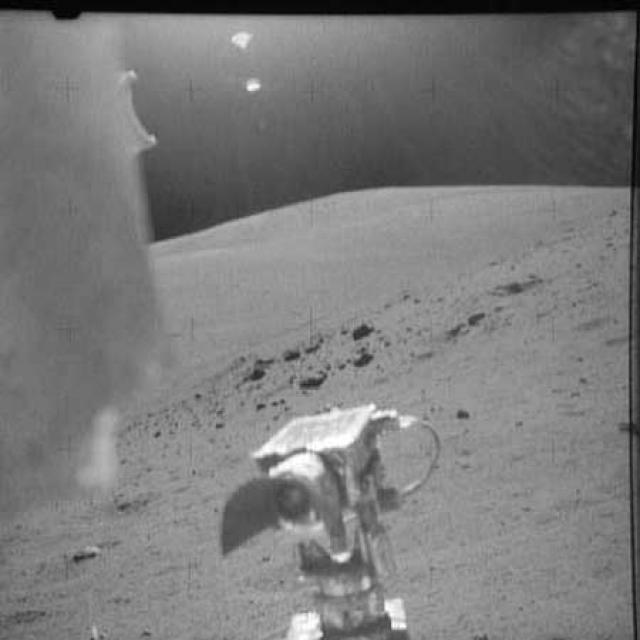artifact: (0, 0, 170, 541), (215, 396, 461, 638)
crater: (2, 600, 52, 630), (488, 276, 549, 297)
rock: (290, 360, 334, 392), (241, 354, 274, 392), (64, 542, 107, 568), (343, 316, 378, 340), (346, 347, 378, 372), (272, 344, 316, 357)
